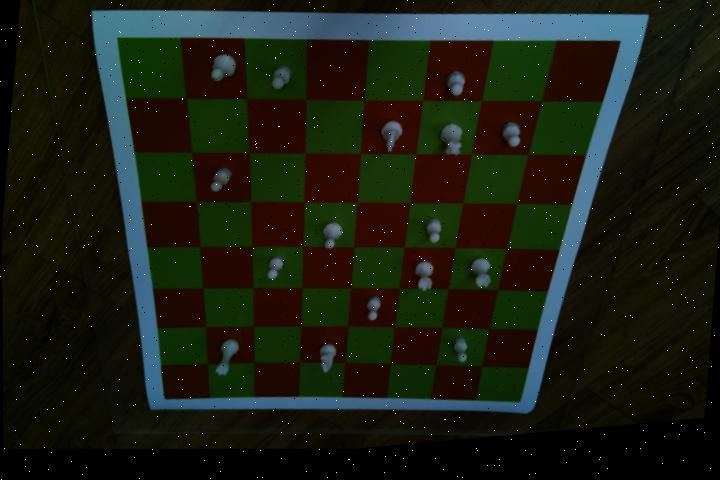chessboard-detect: (114, 42, 618, 416)
